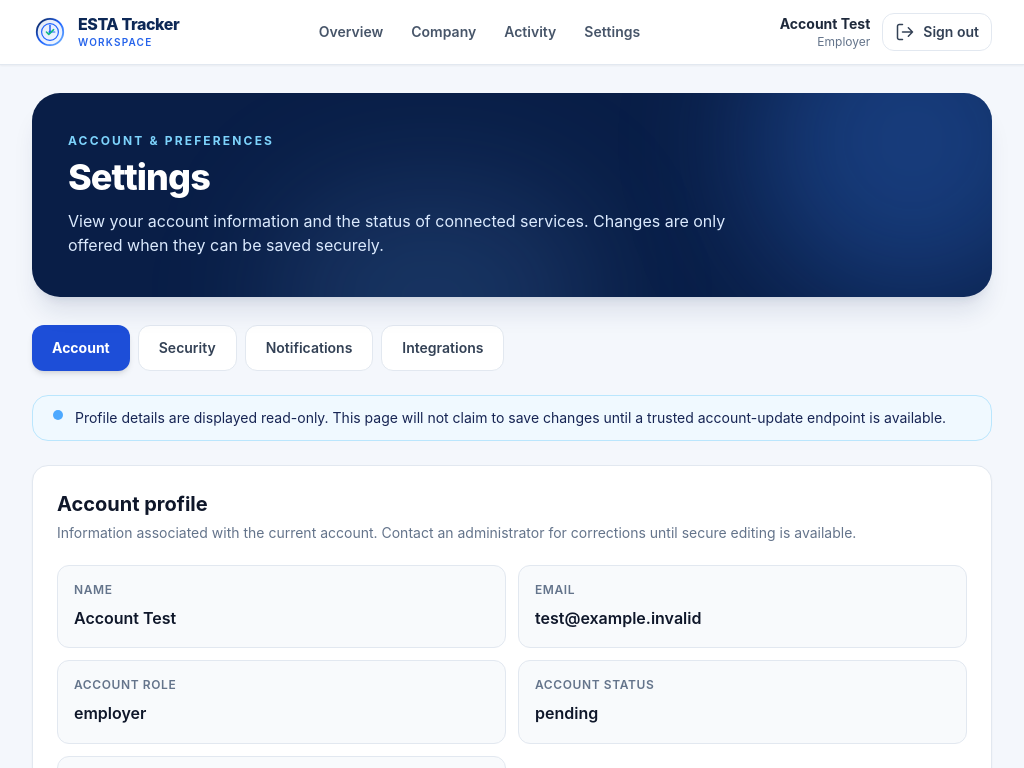
Test case: authenticated workspace shell › does not offer fake save operations in account settings
Click the tab "Notifications" at [309, 348], box x1=245 y1=325 x2=373 y2=371
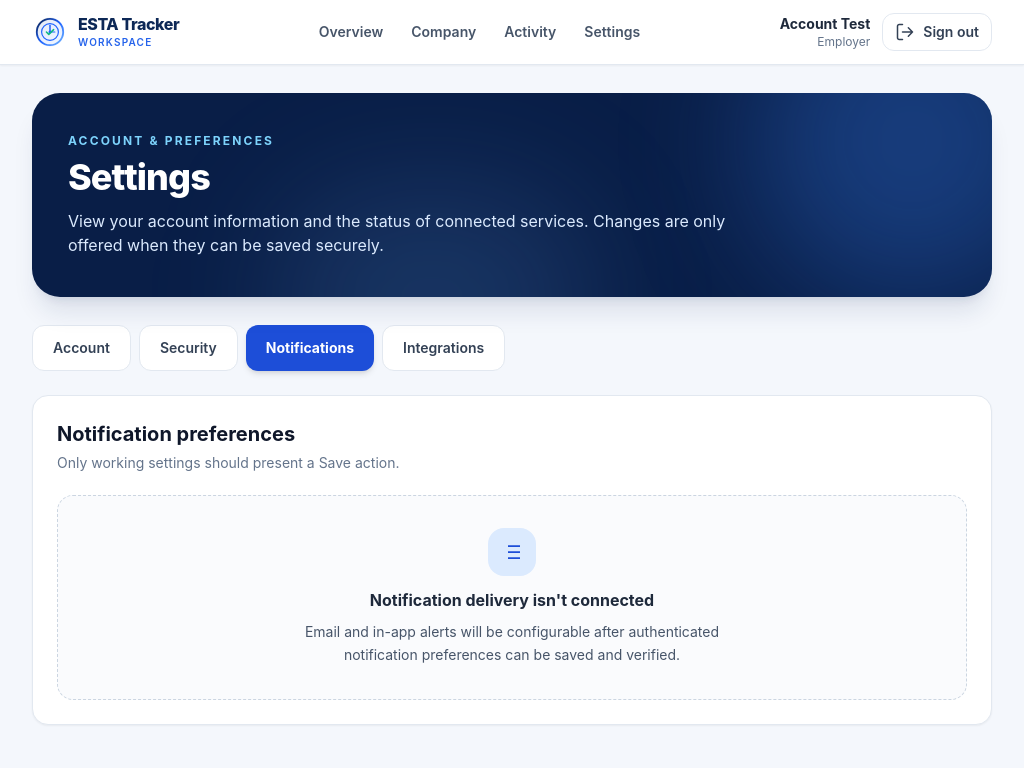
Now the text "Notification delivery isn't connected" is shown, box x1=370 y1=590 x2=654 y2=610
